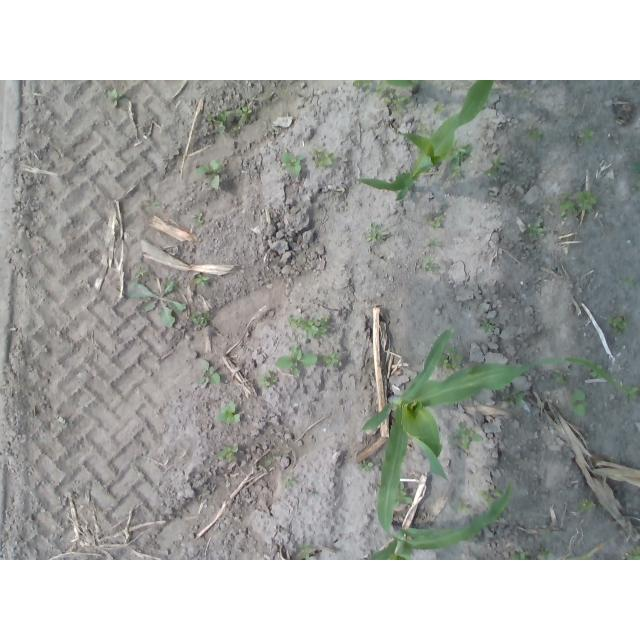Maize: (362, 329, 622, 542), (359, 81, 498, 204), (367, 482, 513, 560), (372, 80, 421, 96)
Weeds: (123, 280, 189, 331), (274, 344, 318, 376), (448, 420, 483, 452), (559, 188, 597, 216), (288, 314, 329, 339), (447, 140, 473, 179), (196, 158, 225, 190), (196, 359, 221, 386), (436, 348, 464, 371), (568, 388, 589, 417), (204, 110, 228, 135), (215, 402, 241, 425), (385, 92, 410, 115), (280, 153, 304, 176), (483, 157, 506, 180), (478, 487, 502, 509), (106, 88, 130, 109), (365, 222, 388, 243), (312, 148, 336, 168), (395, 482, 414, 507), (503, 386, 526, 406), (607, 315, 629, 334), (215, 445, 237, 463), (189, 310, 211, 327), (576, 125, 596, 143), (257, 371, 278, 388), (425, 212, 446, 229), (321, 352, 340, 369), (423, 257, 440, 276), (527, 222, 546, 239), (524, 127, 544, 142), (141, 195, 161, 210), (623, 544, 640, 560), (578, 498, 595, 514), (623, 384, 640, 400), (298, 542, 312, 560), (190, 212, 206, 227), (281, 475, 297, 490), (588, 365, 604, 380), (536, 548, 554, 561), (375, 81, 389, 97), (508, 550, 530, 560), (235, 106, 253, 118), (193, 274, 209, 287), (358, 460, 374, 473), (551, 372, 567, 385), (480, 320, 495, 333), (351, 80, 373, 88), (432, 102, 444, 115), (621, 275, 635, 286), (133, 267, 147, 278), (630, 180, 640, 193), (454, 504, 470, 512), (430, 239, 439, 249), (632, 163, 640, 174), (418, 124, 427, 133)
